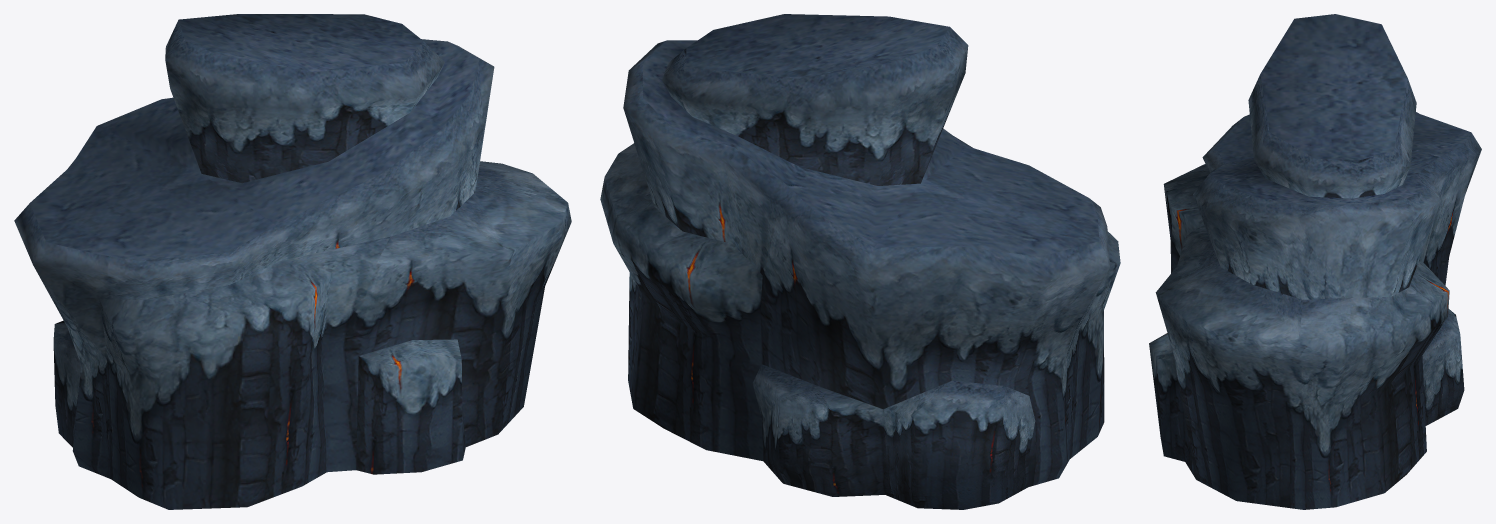
File: Cliff02.FBX
3 views of the same model, side by side, from view 1: azimuth 30°, elevation 25°; view 2: azimuth 150°, elevation 25°; view 3: azimuth 270°, elevation 25° (orthographic). The views are drawn at different scales.
Parts seen in each view (by area): view 1: Cliff02; view 2: Cliff02; view 3: Cliff02.
Boxes of the visible parts, left/top/right/bottom form: Cliff02: left=14, top=14, right=571, bottom=509; Cliff02: left=600, top=14, right=1120, bottom=509; Cliff02: left=1149, top=14, right=1481, bottom=509.
Bounding box in the file's own units: 2025 × 1552 × 1299.
